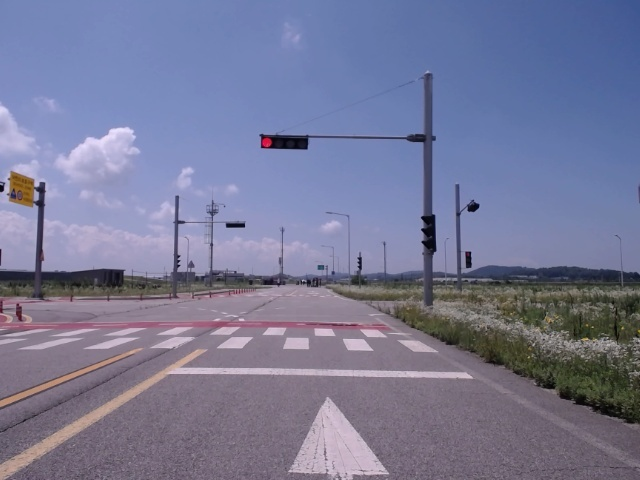red_4: (261, 136, 308, 150)
